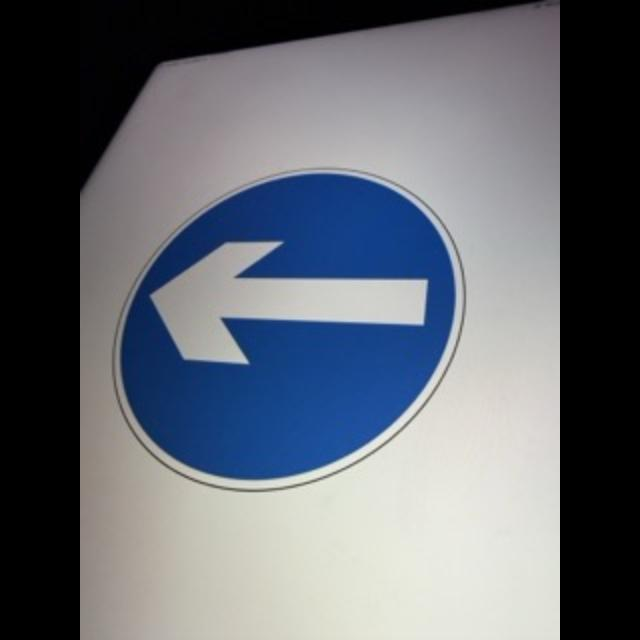TURN LEFT: (114, 167, 468, 495)
